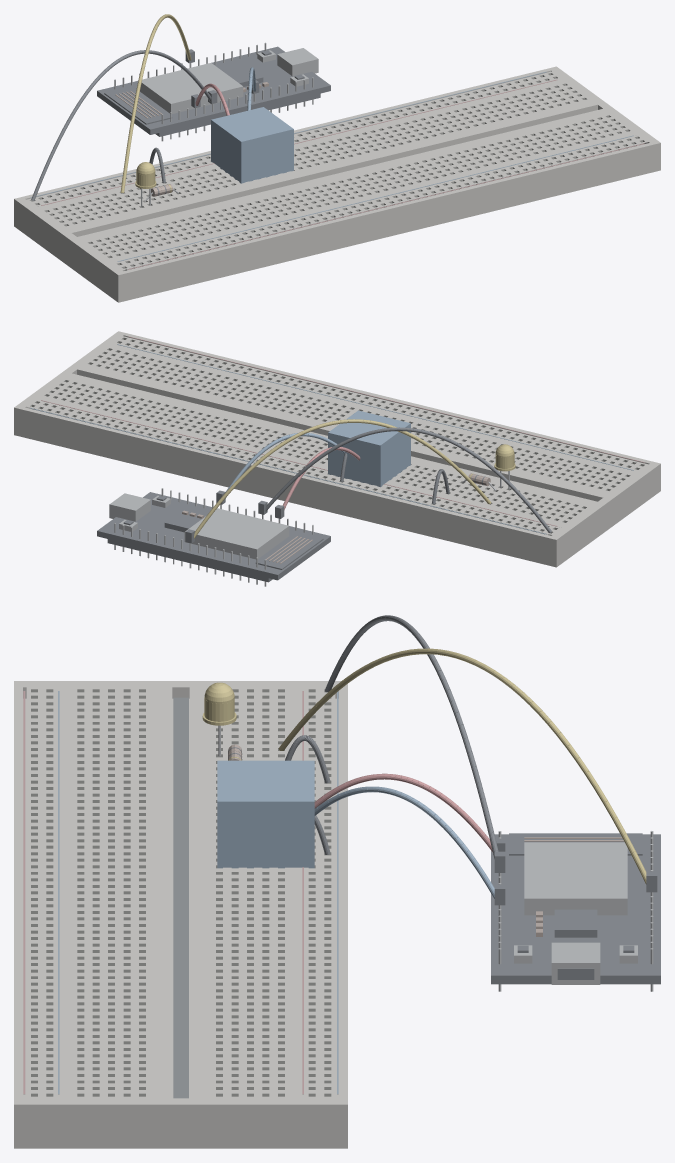
The model's file is step-9.glb.
3 views of the same model, one above another, from view 1: azimuth 30°, elevation 25°; view 2: azimuth 150°, elevation 25°; view 3: azimuth 270°, elevation 25° (orthographic). The views are drawn at different scales.
Parts seen in each view (by area): view 1: bb1__mesh, uno__mesh, pot1__mesh, w_gnd_rail__mesh, w_led_sig__mesh, led_yellow__mesh; view 2: bb1__mesh, uno__mesh, pot1__mesh, w_led_sig__mesh, w_gnd_rail__mesh, w_pot_wiper__mesh, led_yellow__mesh, w_pot_5v__mesh; view 3: bb1__mesh, uno__mesh, pot1__mesh, w_led_sig__mesh, w_gnd_rail__mesh, w_pot_wiper__mesh, w_pot_5v__mesh, led_yellow__mesh.
Part boxes in pixels (x1,y1,x2,y2): bb1__mesh: (14,66,660,302); uno__mesh: (97,42,330,141); pot1__mesh: (211,107,293,183); w_gnd_rail__mesh: (31,50,217,200); w_led_sig__mesh: (120,14,194,192); led_yellow__mesh: (135,162,156,207); bb1__mesh: (14,331,660,567); uno__mesh: (97,488,330,586); pot1__mesh: (328,410,410,487); w_led_sig__mesh: (185,419,491,543); w_gnd_rail__mesh: (258,427,551,532); w_pot_wiper__mesh: (216,433,344,504); led_yellow__mesh: (494,444,515,489); w_pot_5v__mesh: (275,447,360,518); bb1__mesh: (14,681,347,1148); uno__mesh: (491,831,660,991); pot1__mesh: (217,760,314,868); w_led_sig__mesh: (278,648,657,892); w_gnd_rail__mesh: (325,615,505,872); w_pot_wiper__mesh: (314,786,505,905); w_pot_5v__mesh: (314,773,505,852); led_yellow__mesh: (202,682,236,756).
Size of the model in its own units: 0.165 by 0.0379 by 0.1065.
